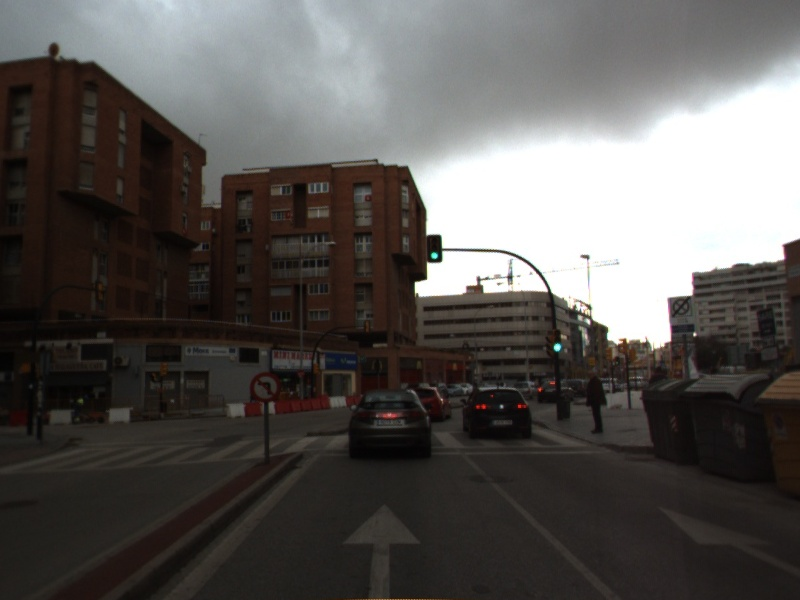STRAIGHT: (652, 502, 800, 581), (338, 500, 425, 600)
